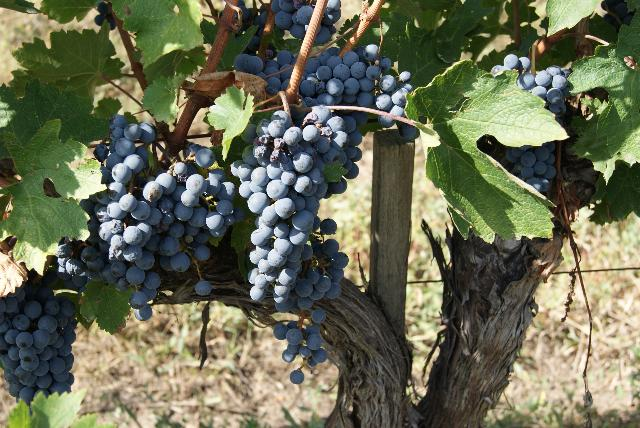grapes: (55, 115, 245, 320), (230, 105, 350, 300), (0, 271, 79, 405), (300, 44, 414, 116), (234, 50, 296, 95), (516, 65, 570, 115), (506, 141, 556, 192), (35, 309, 38, 310)
